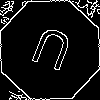U: (25, 25, 76, 81)
